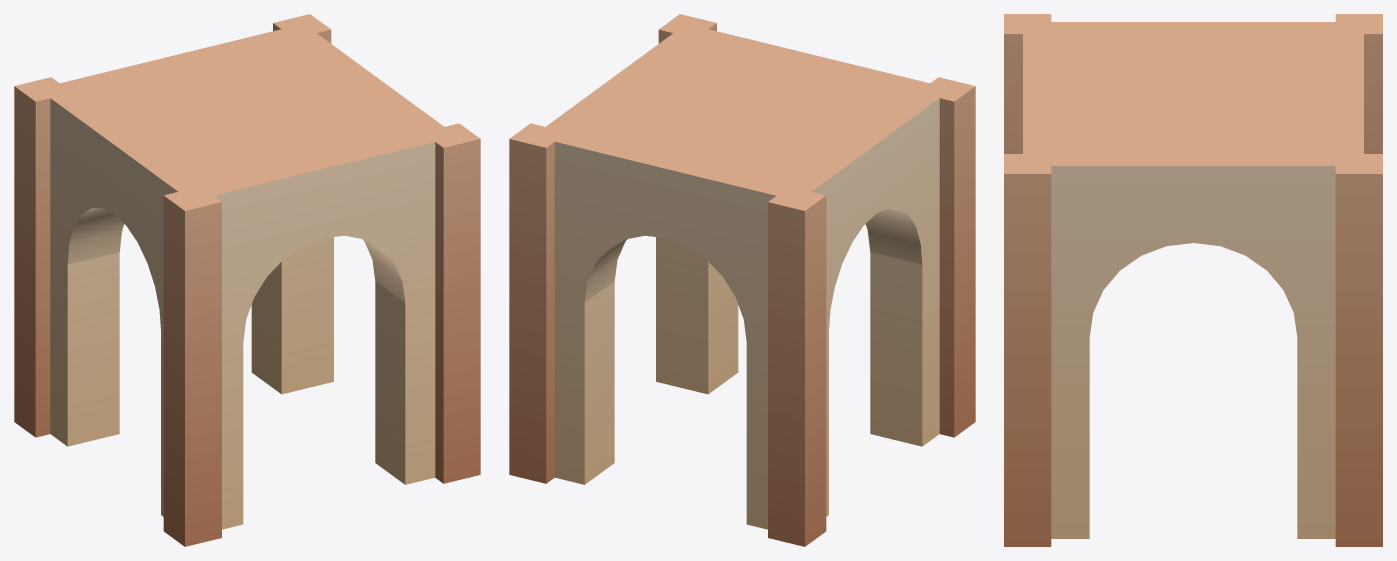
The model's file is tower-square-arch.obj.
3 renders of one model, left to right at view 1: azimuth 30°, elevation 25°; view 2: azimuth 150°, elevation 25°; view 3: azimuth 270°, elevation 25°, orthographic. The views are drawn at different scales.
Visible parts, largest first — view 1: tower-square-arch; view 2: tower-square-arch; view 3: tower-square-arch.
Part boxes in pixels (x1,y1,x2,y2): tower-square-arch: [14, 14, 480, 546]; tower-square-arch: [509, 14, 975, 546]; tower-square-arch: [1004, 14, 1382, 546].
Bounding box in the file's own units: 0.93 × 1.01 × 0.93.
1 material, 1 textured.
